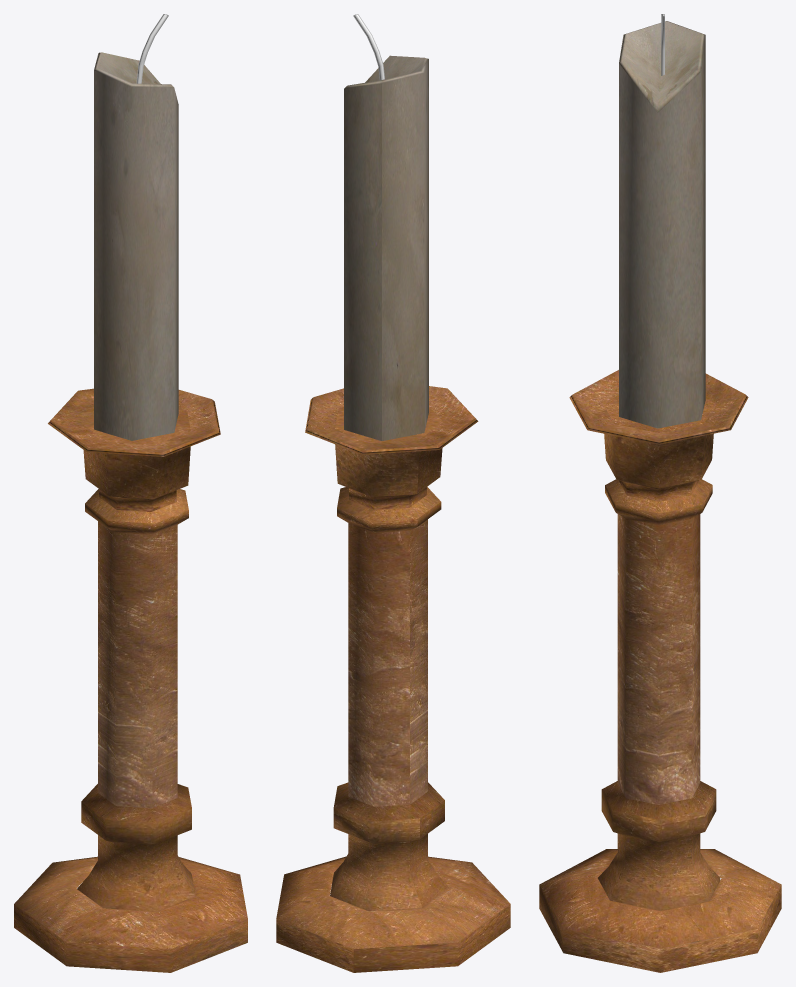
The model's file is Candle_02.fbx.
3 renders of one model, left to right at view 1: azimuth 30°, elevation 25°; view 2: azimuth 150°, elevation 25°; view 3: azimuth 270°, elevation 25°, orthographic. The views are drawn at different scales.
Parts seen in each view (by area): view 1: group2.001; view 2: group2.001; view 3: group2.001.
Part boxes in pixels (bbox=[...]): group2.001: bbox=[14, 14, 247, 972]; group2.001: bbox=[276, 14, 510, 972]; group2.001: bbox=[539, 14, 781, 972].
Size of the model in its own units: 212 by 914 by 218.
Materials: 3 (2 with a texture image).
